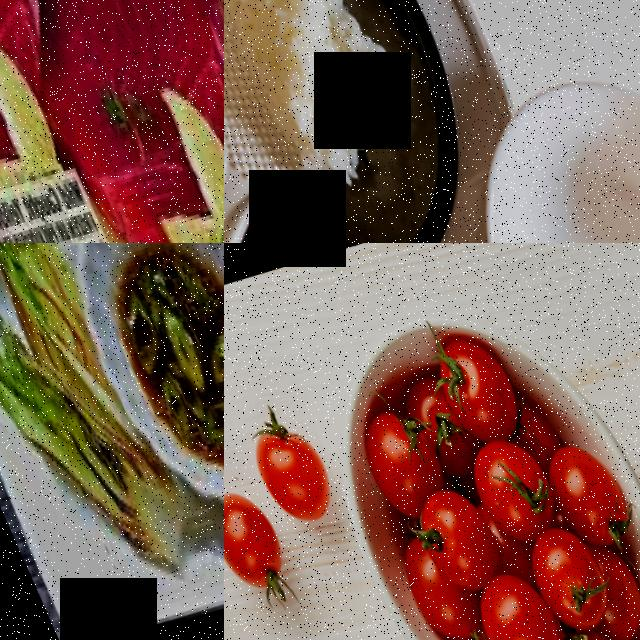tomato: (419, 317, 532, 451), (528, 422, 639, 552), (452, 419, 563, 547), (396, 471, 507, 597), (237, 409, 341, 533), (224, 475, 299, 619), (455, 557, 570, 640)
tuna: (65, 0, 224, 97)
white rice: (224, 0, 419, 196)
